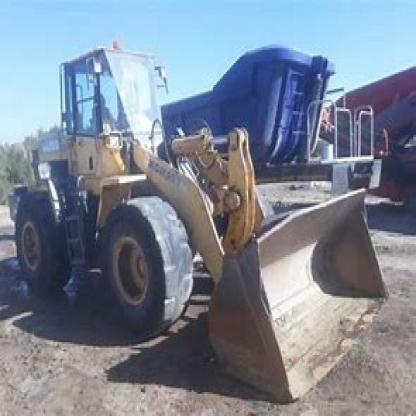bull_dozer/loader/grader: (8, 39, 396, 408)
